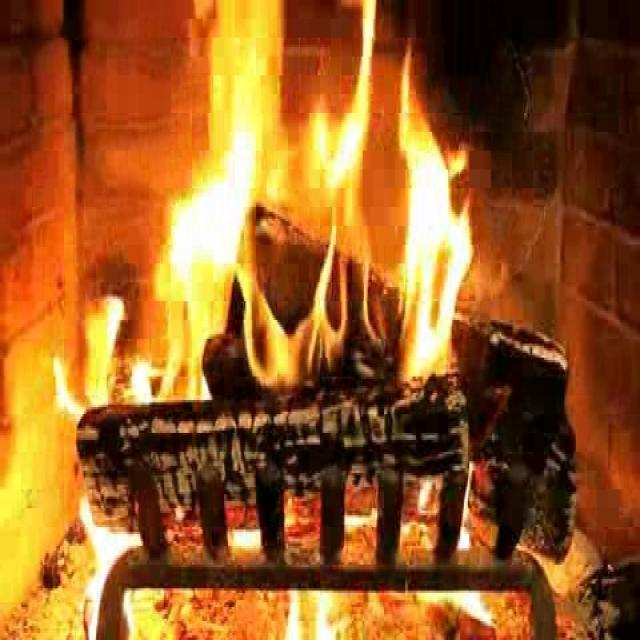Fire: (148, 14, 474, 430)
